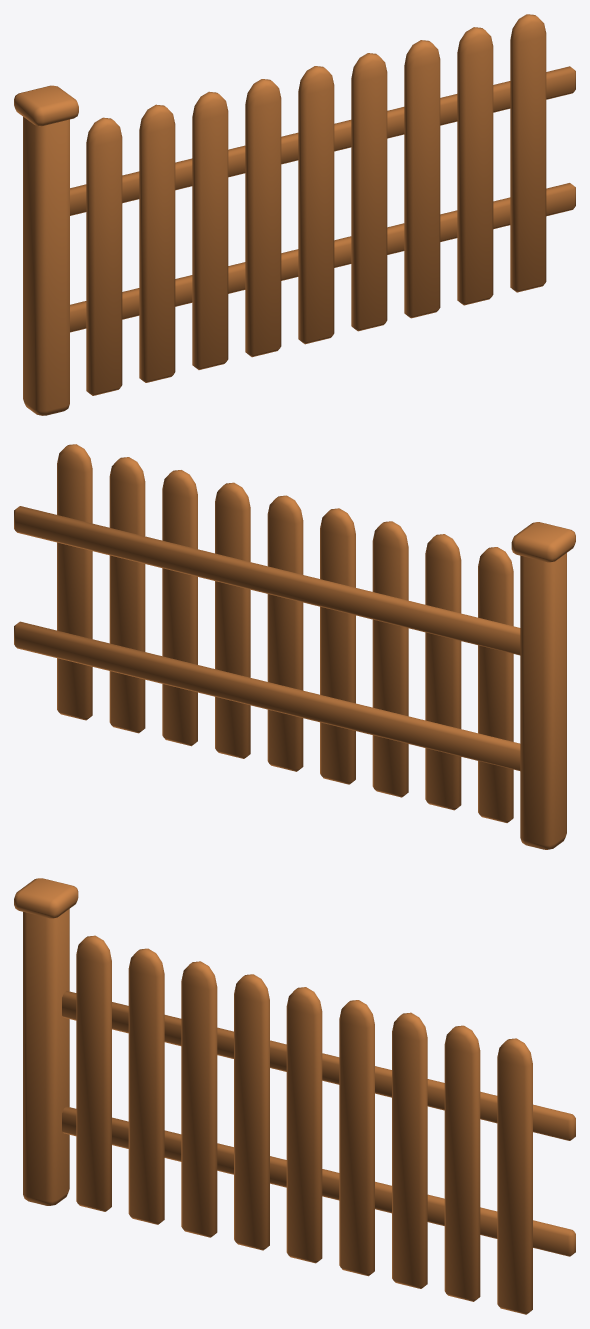
File: fence-picket-honey.glb
The picture shows the model from 3 angles, top to bottom: view 1: azimuth 30°, elevation 25°; view 2: azimuth 150°, elevation 25°; view 3: azimuth 330°, elevation 25°; orthographic projection.
Visible parts, largest first — view 1: body; view 2: body; view 3: body.
Part boxes in pixels (<box>): body: <box>14,14,575,415</box>; body: <box>14,444,575,849</box>; body: <box>14,878,575,1314</box>.
Bounding box in the file's own units: 2.09 × 1.13 × 0.17.
